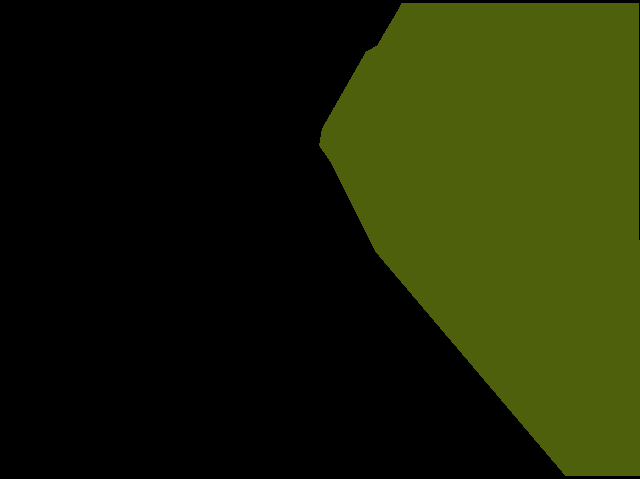Train: (319, 3, 640, 475)
